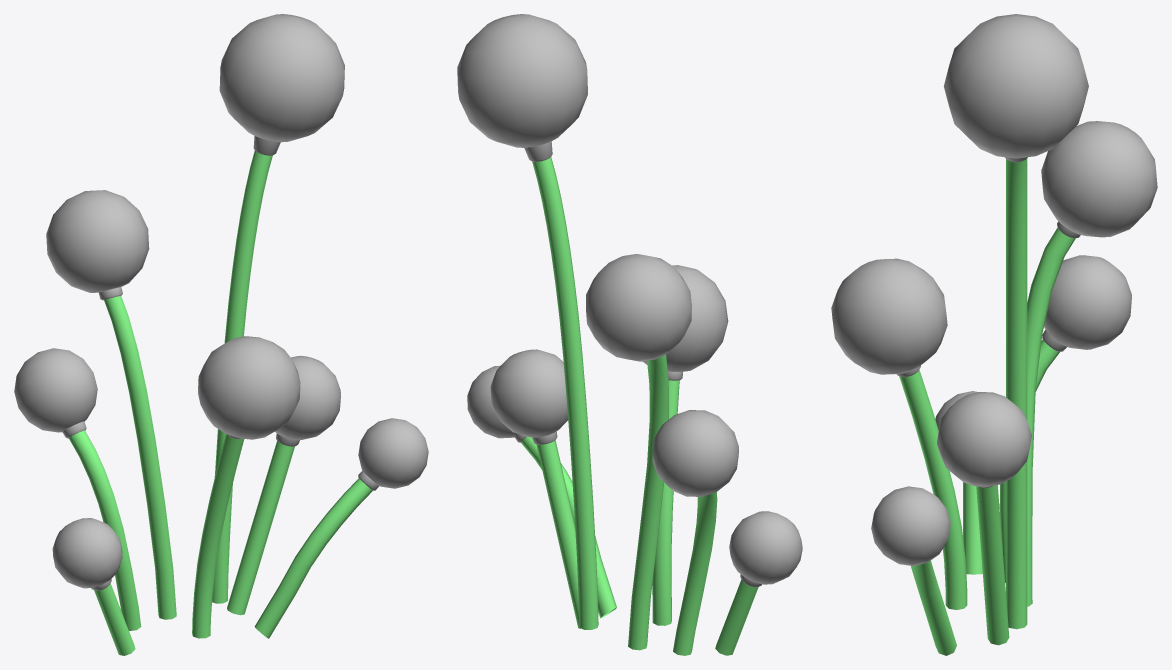
File: HerbRound.fbx
The picture shows the model from 3 angles, left to right: view 1: azimuth 30°, elevation 25°; view 2: azimuth 150°, elevation 25°; view 3: azimuth 270°, elevation 25°; orthographic projection. The views are drawn at different scales.
Visible parts, largest first — view 1: HerbRound_LOD0; view 2: HerbRound_LOD0; view 3: HerbRound_LOD0.
Boxes of the visible parts, bbox=[...] form: HerbRound_LOD0: bbox=[14, 14, 428, 655]; HerbRound_LOD0: bbox=[457, 14, 802, 655]; HerbRound_LOD0: bbox=[831, 14, 1157, 655].
Size of what is drawn, in the model's own units: 70.38 by 115 by 51.72.
